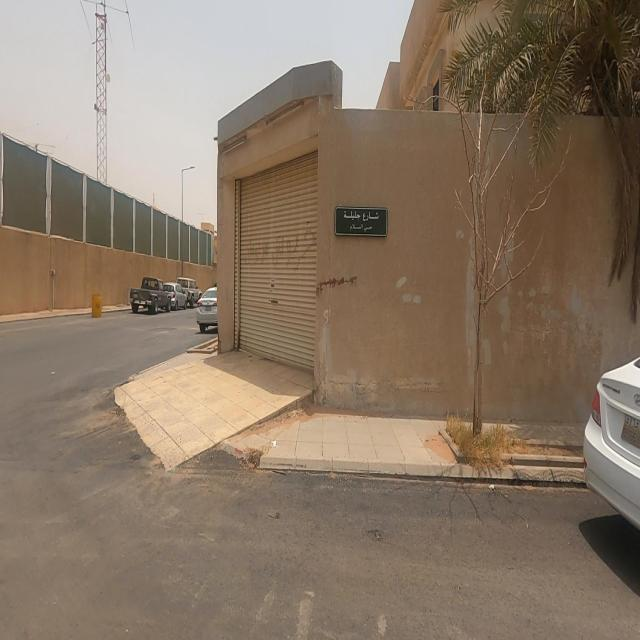Graffiti: (241, 230, 317, 273)
